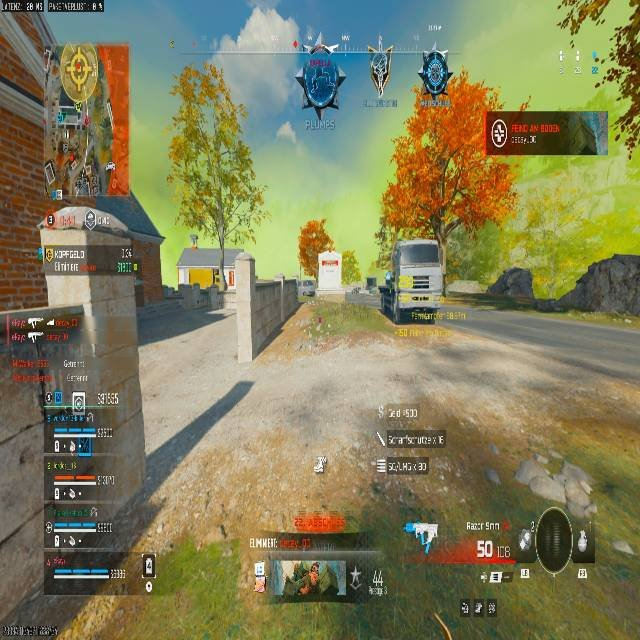player: (417, 47, 450, 100)
